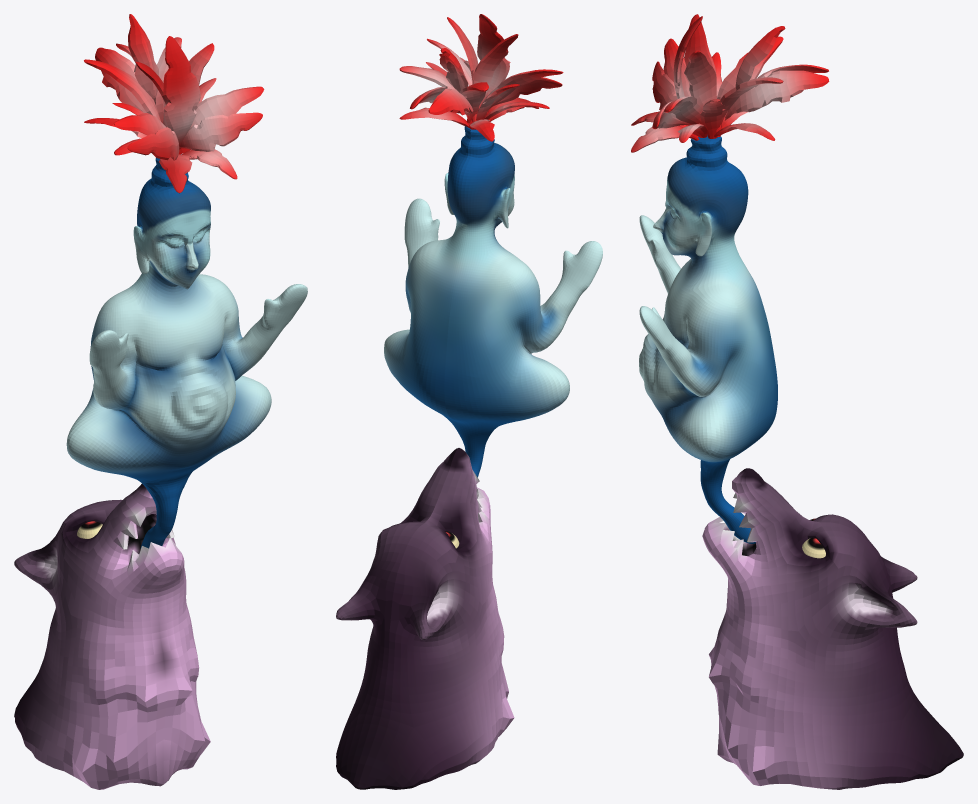
Rendered from BUDDHA.fbx.
The picture shows the model from 3 angles, left to right: view 1: azimuth 30°, elevation 25°; view 2: azimuth 150°, elevation 25°; view 3: azimuth 270°, elevation 25°; orthographic projection. The views are drawn at different scales.
Visible parts, largest first — view 1: BUDDHA_corpo, Lupo; view 2: BUDDHA_corpo, Lupo; view 3: Lupo, BUDDHA_corpo.
Part boxes in pixels (bbox=[...]): BUDDHA_corpo: bbox=[66, 14, 307, 548]; Lupo: bbox=[14, 484, 210, 789]; BUDDHA_corpo: bbox=[384, 14, 602, 477]; Lupo: bbox=[336, 448, 514, 789]; Lupo: bbox=[702, 468, 963, 789]; BUDDHA_corpo: bbox=[631, 14, 829, 543].
Size of the model in its own units: 10.59 by 36.18 by 14.61.
4 materials, 4 textured.
